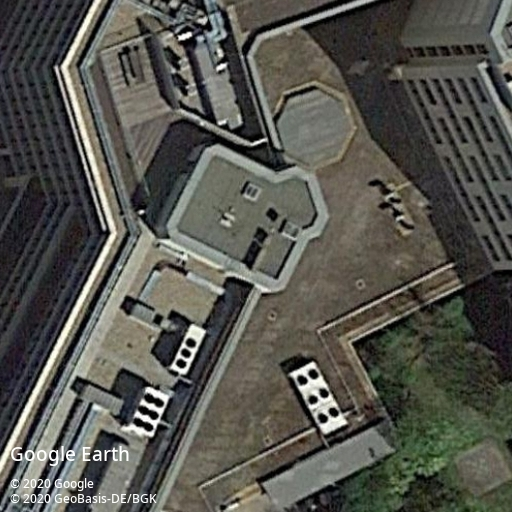Chiller: (289, 360, 350, 437), (128, 386, 169, 438), (170, 323, 206, 375)
